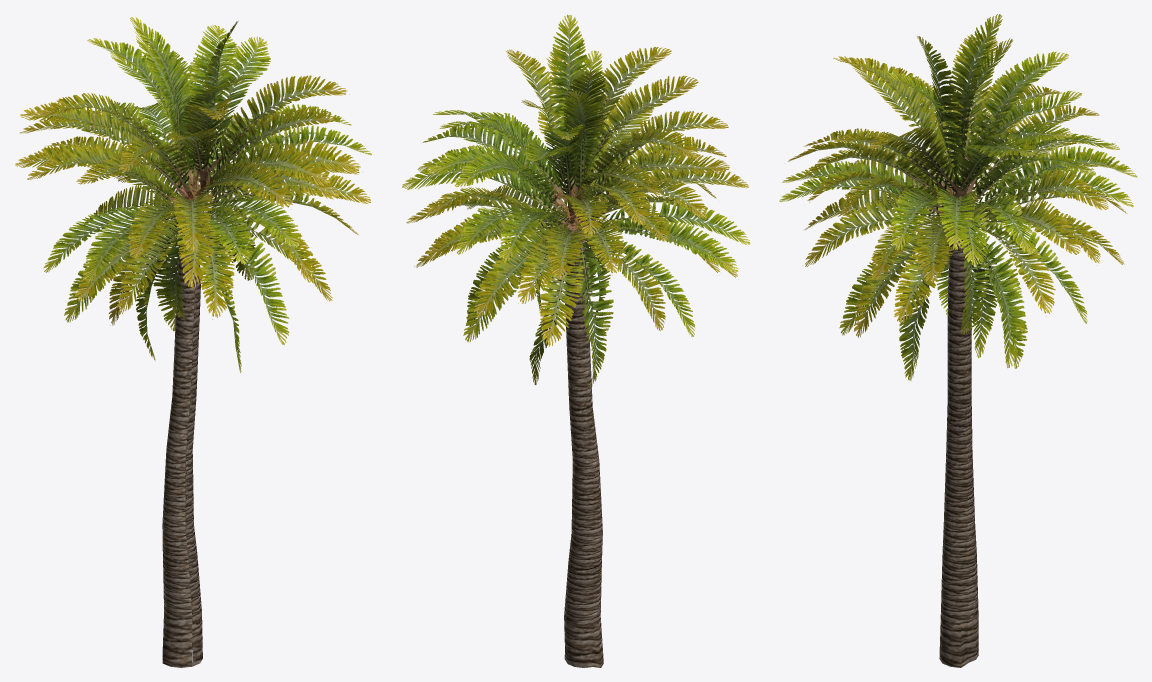
The model's file is palm.glb.
The picture shows the model from 3 angles, left to right: view 1: azimuth 30°, elevation 25°; view 2: azimuth 150°, elevation 25°; view 3: azimuth 270°, elevation 25°; orthographic projection. The views are drawn at different scales.
Parts seen in each view (by area): view 1: palm.001; view 2: palm.001; view 3: palm.001.
Boxes of the visible parts, bbox=[...] form: palm.001: bbox=[15, 17, 371, 667]; palm.001: bbox=[402, 14, 750, 667]; palm.001: bbox=[779, 14, 1137, 667].
Size of the model in its own units: 3.68 by 7.16 by 3.63.
1 material, 1 textured.
